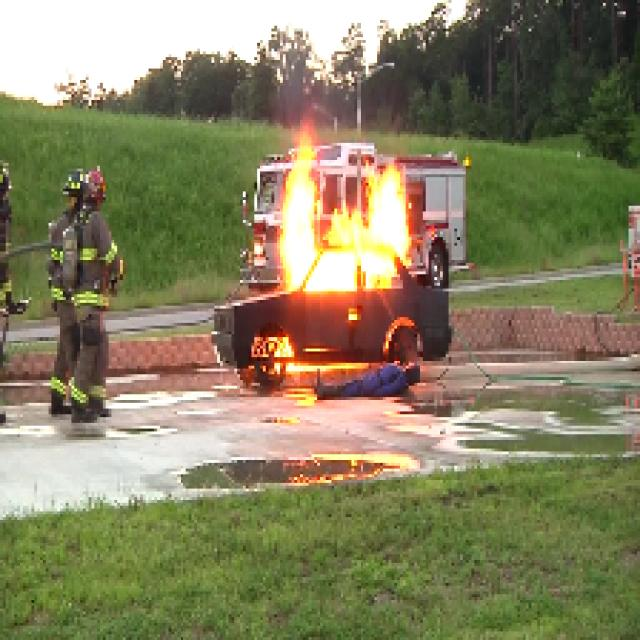fire: (268, 144, 412, 292)
